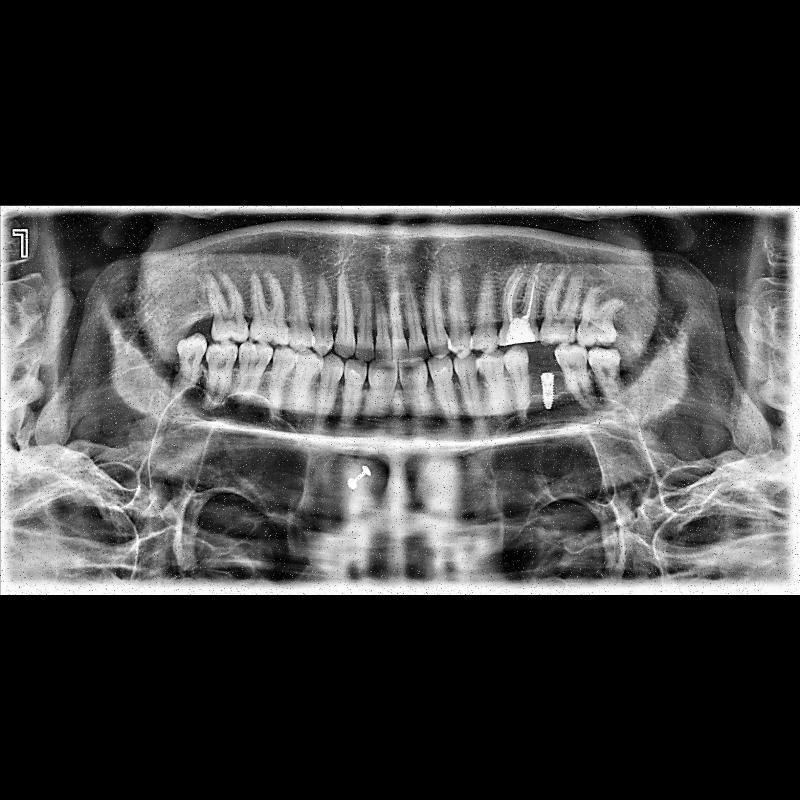osstem: (531, 370, 561, 410)
